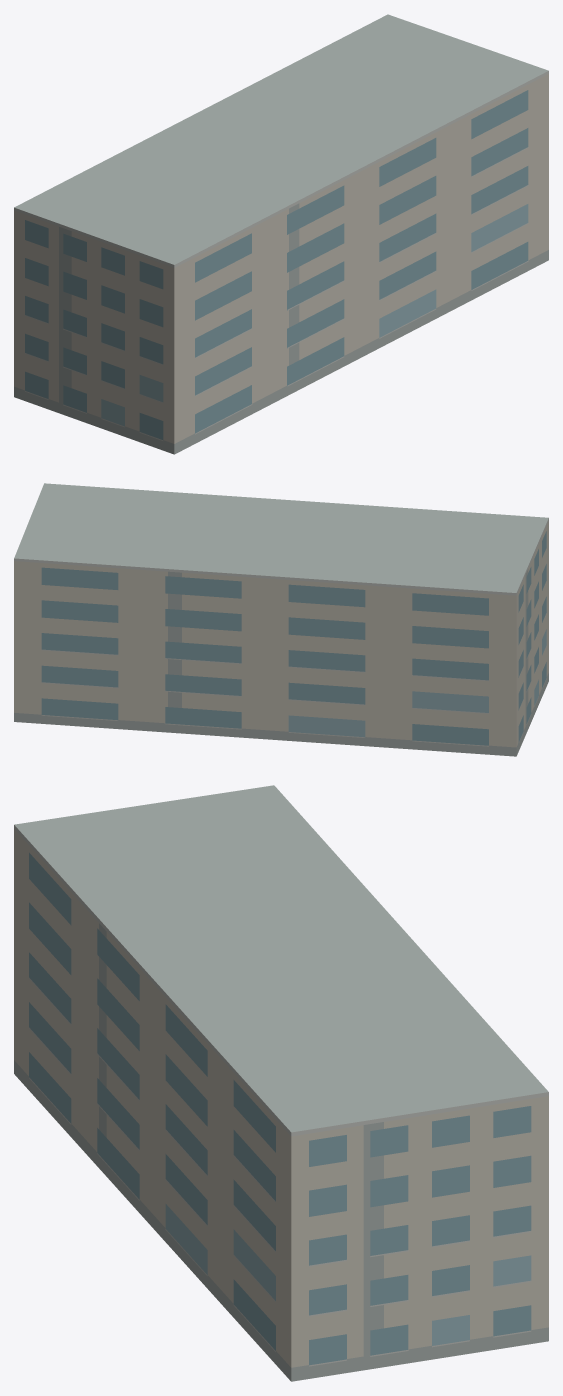
File: residential-2a599abb-aebf-4185-8ac9-01250b3648ae.glb
The picture shows the model from 3 angles, top to bottom: view 1: azimuth 30°, elevation 25°; view 2: azimuth 150°, elevation 25°; view 3: azimuth 270°, elevation 25°; orthographic projection. The views are drawn at different scales.
Parts seen in each view (by area): view 1: residential-2a599abb-aebf-4185-8ac9-01250b3648ae.tmp; view 2: residential-2a599abb-aebf-4185-8ac9-01250b3648ae.tmp; view 3: residential-2a599abb-aebf-4185-8ac9-01250b3648ae.tmp.
Boxes of the visible parts, x1,y1,x2,y2 form: residential-2a599abb-aebf-4185-8ac9-01250b3648ae.tmp: [14, 14, 548, 454]; residential-2a599abb-aebf-4185-8ac9-01250b3648ae.tmp: [14, 483, 548, 756]; residential-2a599abb-aebf-4185-8ac9-01250b3648ae.tmp: [14, 785, 548, 1381].
Size of the model in its own units: 45.57 by 15.25 by 29.67.
